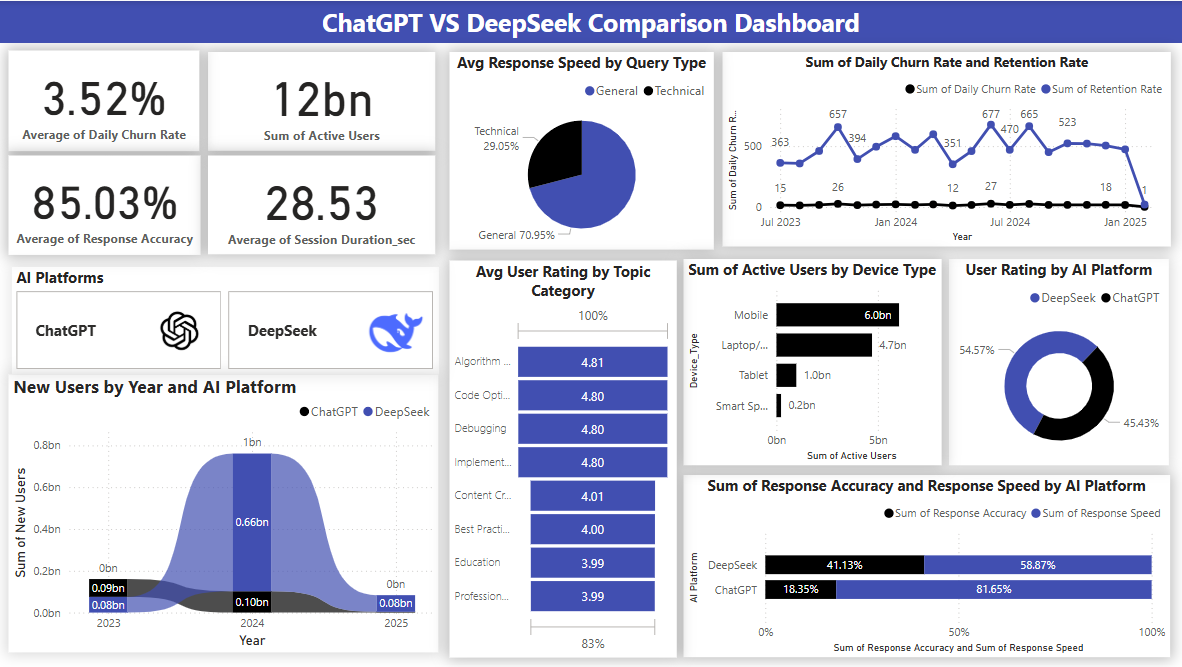

The page's visual inventory and layout, read from the dashboard file:
{"tool":"powerbi","page":{"name":"Page 1","canvas":[1280,720],"ordinal":0},"visuals":[{"type":"card","fields":{"Values":["Sum(deepseek_vs_chatgpt.Active_Users)"]},"box":[226.7,55,245,106.7],"z":0},{"type":"card","fields":{"Values":["Avg(deepseek_vs_chatgpt.Daily_Churn_Rate)"]},"box":[11.4,52.9,205.7,108.6],"z":1000},{"type":"hundredPercentStackedBarChart","title":"Sum of Response Accuracy and Response Speed by AI Platform","fields":{"Category":["deepseek_vs_chatgpt.AI_Platform"],"Y":["Sum(deepseek_vs_chatgpt.Response Accuracy)","Sum(deepseek_vs_chatgpt.Response Speed)"]},"box":[740,511.7,525,196.7],"z":2000},{"type":"ribbonChart","title":"New Users by Year and AI Platform","fields":{"Category":["deepseek_vs_chatgpt.Date.Variation.Date Hierarchy.Year","deepseek_vs_chatgpt.Date.Variation.Date Hierarchy.Month"],"Y":["Sum(deepseek_vs_chatgpt.New_Users)"],"Series":["deepseek_vs_chatgpt.AI_Platform"]},"box":[11.4,402.9,464.3,300],"z":3000},{"type":"donutChart","title":"User Rating by AI Platform","fields":{"Category":["deepseek_vs_chatgpt.AI_Platform"],"Y":["Avg(deepseek_vs_chatgpt.User_Rating)"]},"box":[1027.2,278.8,237.2,222.6],"z":4000},{"type":"textbox","box":[0,0,1280,45],"z":5000},{"type":"card","fields":{"Values":["Avg(deepseek_vs_chatgpt.Response Accuracy)"]},"box":[11.4,167.1,207.1,107.1],"z":6000},{"type":"card","fields":{"Values":["Avg(deepseek_vs_chatgpt.Session_Duration_sec)"]},"box":[226.7,167.5,245,106.7],"z":7000},{"type":"lineChart","title":"Sum of Daily Churn Rate and Retention Rate ","fields":{"Y":["Sum(deepseek_vs_chatgpt.Daily Churn Rate)","Sum(deepseek_vs_chatgpt.Retention_Rate)"],"Category":["deepseek_vs_chatgpt.Date.Variation.Date Hierarchy.Year","deepseek_vs_chatgpt.Date.Variation.Date Hierarchy.Month"]},"box":[781.4,55.7,484.3,210],"z":8000},{"type":"pieChart","title":"Avg Response Speed by Query Type","fields":{"Category":["deepseek_vs_chatgpt.Query_Type"],"Y":["Avg(deepseek_vs_chatgpt.Response Speed)"]},"box":[486.7,55,285,213.3],"z":9000},{"type":"clusteredBarChart","title":"Sum of Active Users by Device Type","fields":{"Category":["deepseek_vs_chatgpt.Device_Type"],"Y":["Sum(deepseek_vs_chatgpt.Active Users)"]},"box":[739.8,278.8,278.8,222.6],"z":10000},{"type":"funnel","title":"Avg User Rating by Topic Category","fields":{"Category":["deepseek_vs_chatgpt.Topic_Category"],"Y":["Avg(deepseek_vs_chatgpt.User Rating)"]},"box":[486.7,280,245,428.3],"z":11000},{"type":"advancedSlicerVisual","title":"AI Platforms","fields":{"Values":["deepseek_vs_chatgpt.AI Platform"]},"box":[14.3,287.1,461.4,115.7],"z":11500},{"type":"image","box":[385.7,311.4,87.1,87.1],"z":14001},{"type":"image","box":[162.9,318.6,64.3,74.3],"z":14002}]}

Visuals, with their boxes in screenshot pixels (x1, y1, x2, y2), scaled from the page's 1280x720 canvas onto the 1182x667 screenshot:
card - Sum(deepseek_vs_chatgpt.Active_Users): [left=209, top=51, right=436, bottom=150]
card - Avg(deepseek_vs_chatgpt.Daily_Churn_Rate): [left=11, top=49, right=200, bottom=150]
"Sum of Response Accuracy and Response Speed by AI Platform" hundredPercentStackedBarChart: [left=683, top=474, right=1168, bottom=656]
"New Users by Year and AI Platform" ribbonChart: [left=11, top=373, right=439, bottom=651]
"User Rating by AI Platform" donutChart: [left=949, top=258, right=1168, bottom=464]
textbox: [left=0, top=0, right=1181, bottom=42]
card - Avg(deepseek_vs_chatgpt.Response Accuracy): [left=11, top=155, right=202, bottom=254]
card - Avg(deepseek_vs_chatgpt.Session_Duration_sec): [left=209, top=155, right=436, bottom=254]
"Sum of Daily Churn Rate and Retention Rate " lineChart: [left=722, top=52, right=1169, bottom=246]
"Avg Response Speed by Query Type" pieChart: [left=449, top=51, right=713, bottom=249]
"Sum of Active Users by Device Type" clusteredBarChart: [left=683, top=258, right=941, bottom=464]
"Avg User Rating by Topic Category" funnel: [left=449, top=259, right=676, bottom=656]
"AI Platforms" advancedSlicerVisual: [left=13, top=266, right=439, bottom=373]
image: [left=356, top=288, right=437, bottom=369]
image: [left=150, top=295, right=210, bottom=364]
